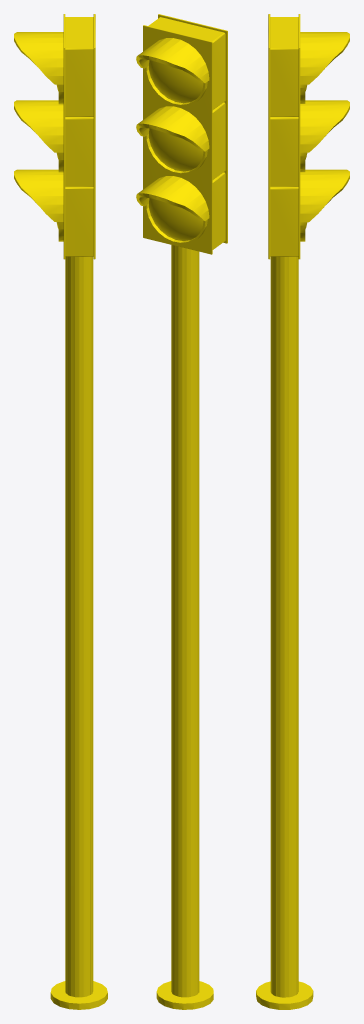
Rendered from traffic_light_yellow.glb.
The picture shows the model from 3 angles, left to right: view 1: azimuth 90°, elevation 25°; view 2: azimuth 150°, elevation 25°; view 3: azimuth 270°, elevation 25°; orthographic projection.
Visible parts, largest first — view 1: traffic_li; view 2: traffic_li; view 3: traffic_li.
Boxes of the visible parts, x1,y1,x2,y2 form: traffic_li: (14, 14, 107, 1009); traffic_li: (136, 14, 227, 1009); traffic_li: (256, 14, 349, 1009).
Bounding box in the file's own units: 0.2097 × 2.81 × 0.2464.
